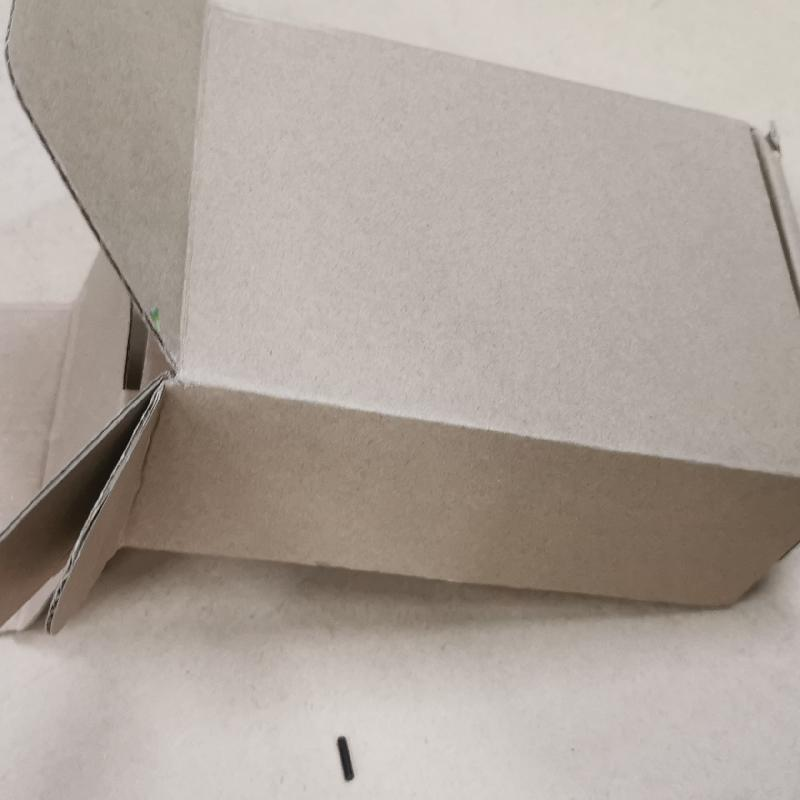boxes: (3, 1, 799, 641)
